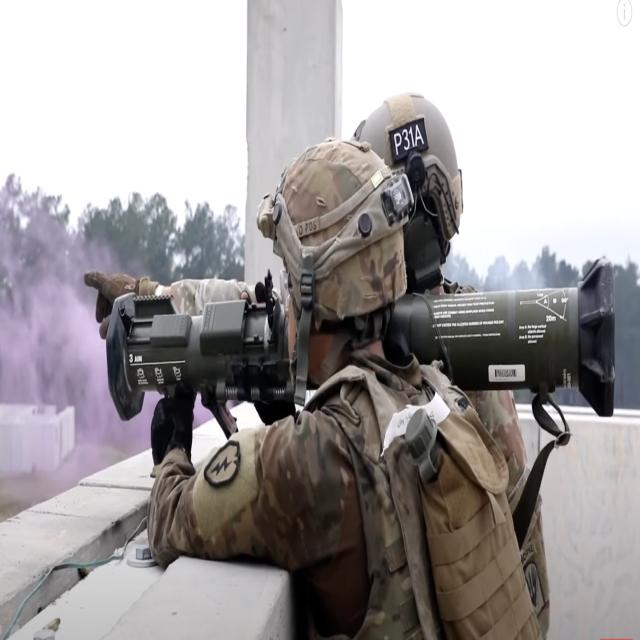bazooka: (96, 257, 620, 429)
